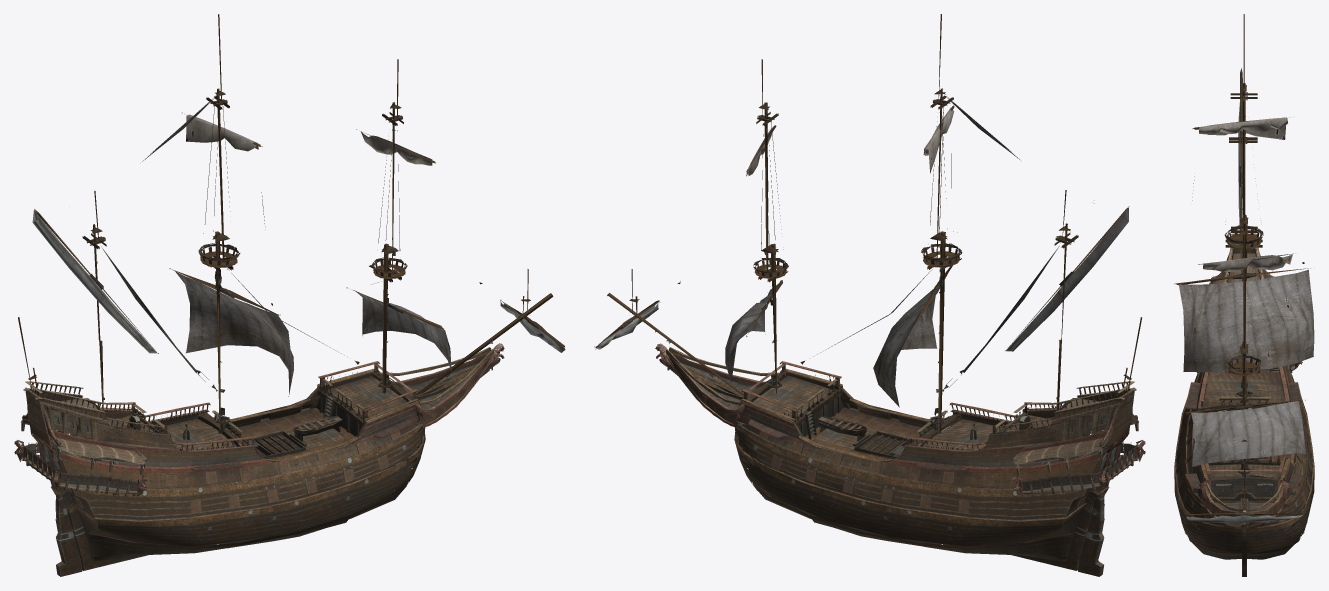
Rendered from dutch_ship_large_01.glb.
3 renders of one model, left to right at view 1: azimuth 30°, elevation 25°; view 2: azimuth 150°, elevation 25°; view 3: azimuth 270°, elevation 25°, orthographic. The views are drawn at different scales.
Visible parts, largest first — view 1: dutch_ship_large_01; view 2: dutch_ship_large_01; view 3: dutch_ship_large_01.
Boxes of the visible parts, x1,y1,x2,y2 form: dutch_ship_large_01: (14, 14, 565, 576); dutch_ship_large_01: (594, 14, 1145, 576); dutch_ship_large_01: (1174, 14, 1314, 576).
Size of the model in its own units: 34.2 by 31.93 by 8.39.
3 materials, 3 textured.
